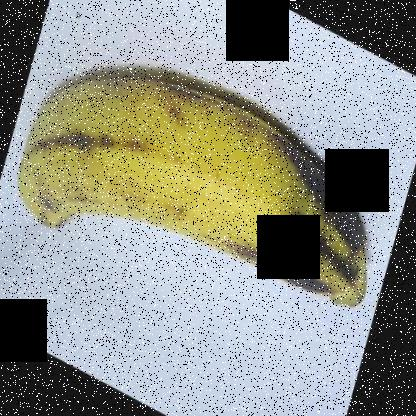ripe: (18, 26, 375, 317)
